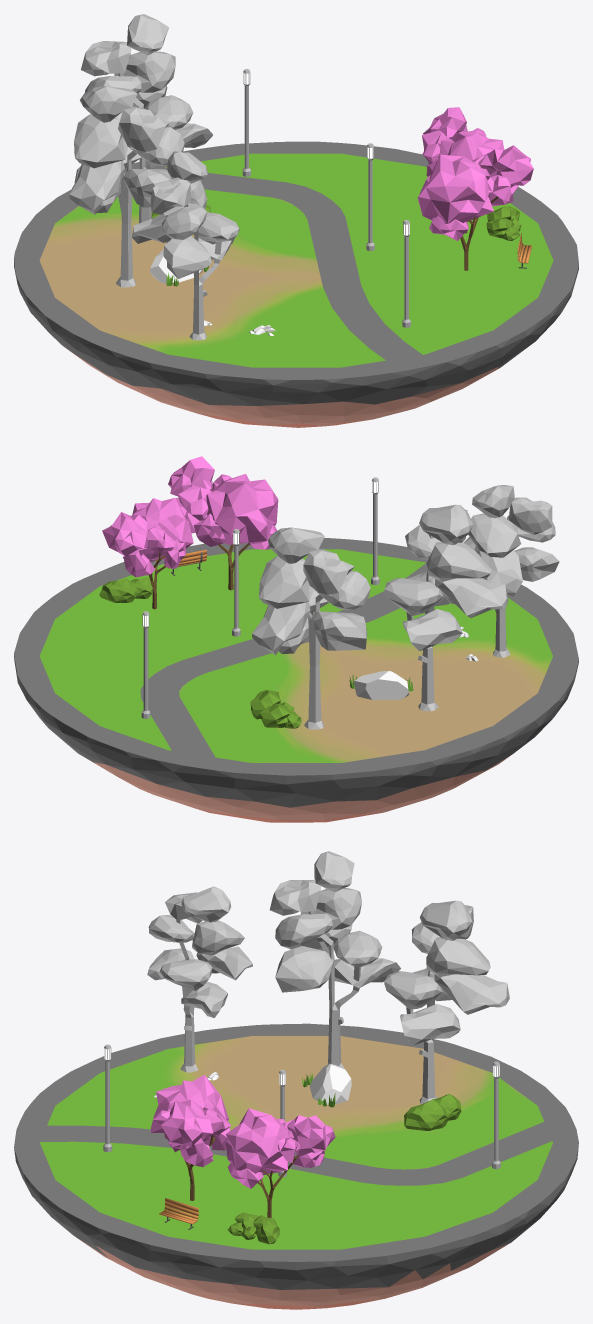
File: island.gltf
3 views of the same model, one above another, from view 1: azimuth 30°, elevation 25°; view 2: azimuth 150°, elevation 25°; view 3: azimuth 270°, elevation 25° (orthographic).
Parts seen in each view (by area): view 1: Circle.001, Circle, Icosphere.002, Icosphere.003, Icosphere.001, Crown, Crown.001, Circle.004, Circle.003, Circle.002, Cube.044; view 2: Circle.001, Circle, Icosphere.001, Icosphere.002, Icosphere.003, Crown, Crown.001, Cube.044, Icosphere.007, Circle.004, Circle.003, Circle.002 (+2 smaller); view 3: Circle.001, Circle, Icosphere.002, Icosphere.001, Icosphere.003, Crown.001, Crown, Cube.044, Icosphere.011, Plane, Circle.002, Circle.004 (+1 smaller).
Boxes of the visible parts, x1,y1,x2,y2 form: Circle.001: (39,153,553,367); Circle: (14,141,578,427); Icosphere.002: (69,86,184,287); Icosphere.003: (132,151,239,340); Icosphere.001: (81,14,212,223); Crown: (417,145,533,240); Crown.001: (422,107,504,176); Circle.004: (242,69,250,176); Circle.003: (366,143,374,250); Circle.002: (402,220,410,327); Cube.044: (150,249,203,283); Circle.001: (39,549,552,762); Circle: (14,538,578,822); Icosphere.001: (252,527,370,729); Icosphere.002: (384,504,508,711); Icosphere.003: (463,485,559,657); Crown: (168,456,278,549); Crown.001: (102,498,193,577); Cube.044: (353,671,409,699); Icosphere.007: (99,578,136,602); Circle.004: (141,611,150,718); Circle.003: (232,529,240,636); Circle.002: (371,477,379,584); Circle.001: (40,1036,552,1249); Circle: (14,1023,578,1309); Icosphere.002: (269,851,400,1069); Icosphere.001: (384,900,509,1104); Icosphere.003: (147,886,252,1072); Crown.001: (225,1108,335,1188); Crown: (151,1075,231,1166); Cube.044: (309,1063,351,1104); Icosphere.011: (404,1099,448,1130); Plane: (159,1198,198,1229); Circle.002: (103,1044,112,1152); Circle.004: (492,1061,500,1169).
Size of the model in its own units: 1.99 by 1.39 by 1.99.
